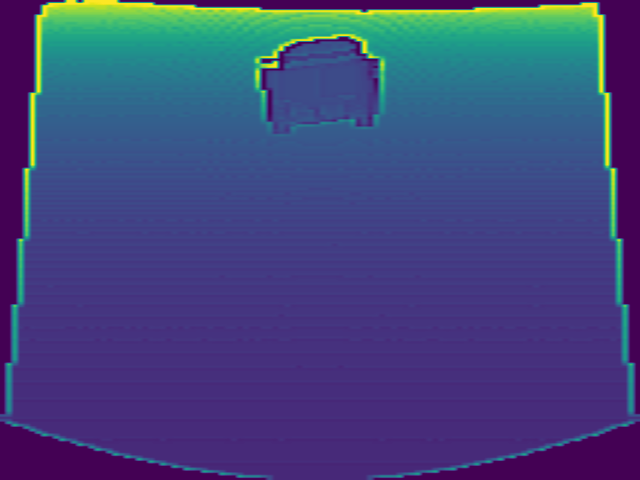car_0027: (255, 33, 385, 134)
